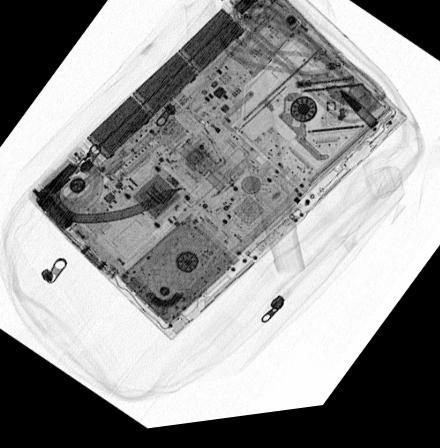Bullet: (339, 96, 380, 139)
